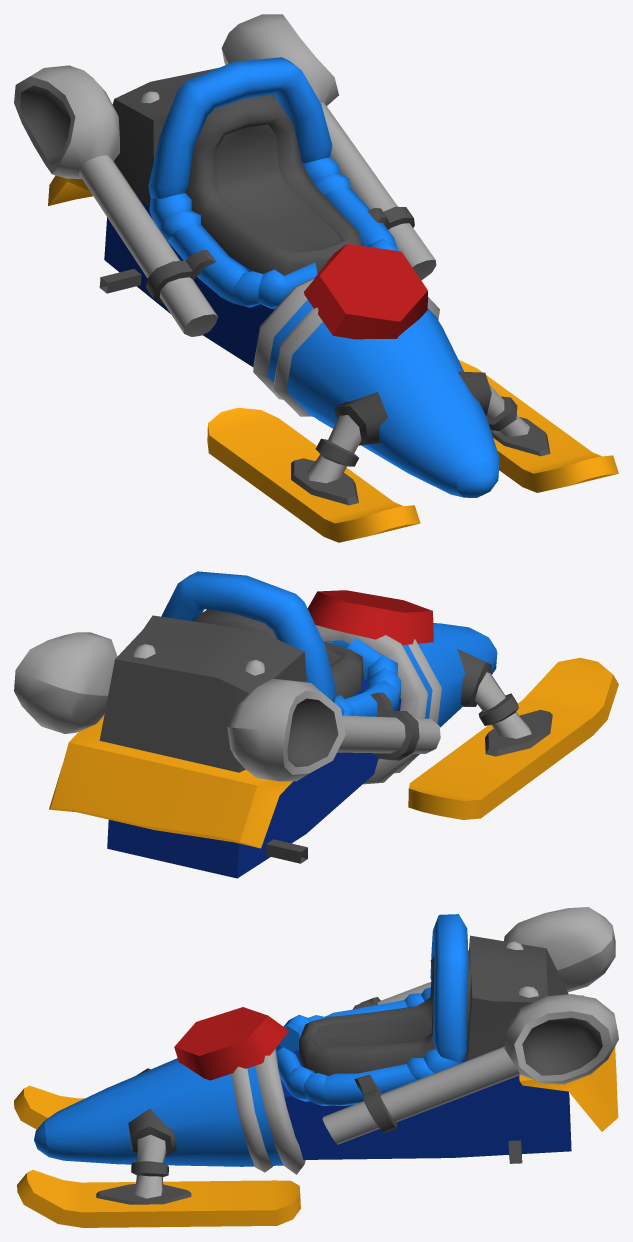
File: Snowmobile.fbx
3 renders of one model, top to bottom at view 1: azimuth 30°, elevation 25°; view 2: azimuth 150°, elevation 25°; view 3: azimuth 270°, elevation 25°, orthographic. The views are drawn at different scales.
Parts seen in each view (by area): view 1: Snowmobile_Body, f_wheel, f_wheel1; view 2: Snowmobile_Body, f_wheel; view 3: Snowmobile_Body, f_wheel1, f_wheel.
Boxes of the visible parts, x1=… form: Snowmobile_Body: x1=14, y1=14, x2=550, y2=505; f_wheel: x1=207, y1=407, x2=420, y2=542; f_wheel1: x1=459, y1=360, x2=618, y2=492; Snowmobile_Body: x1=14, y1=571, x2=552, y2=878; f_wheel: x1=408, y1=657, x2=618, y2=819; Snowmobile_Body: x1=34, y1=907, x2=618, y2=1204; f_wheel1: x1=17, y1=1170, x2=300, y2=1227; f_wheel: x1=14, y1=1085, x2=84, y2=1129.
Bounding box in the file's own units: 101 × 96.21 × 218.
